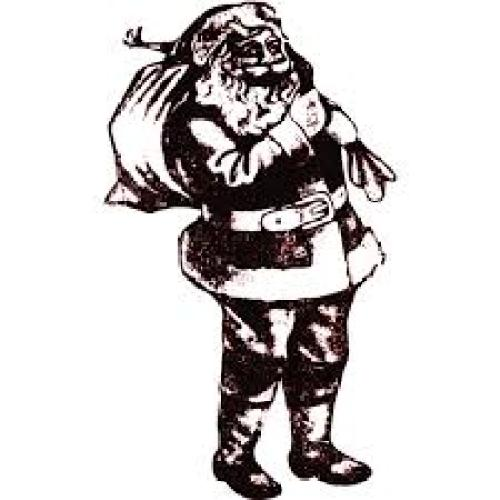Santa: (106, 0, 397, 498)
